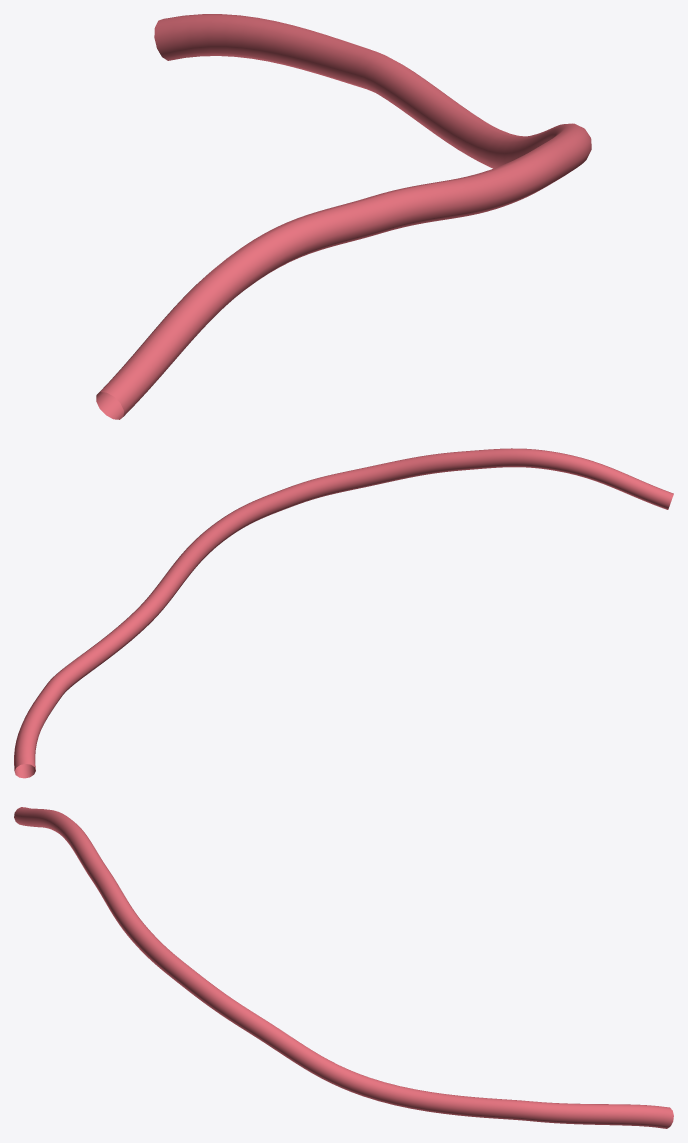
The picture shows the model from 3 angles, top to bottom: view 1: azimuth 30°, elevation 25°; view 2: azimuth 150°, elevation 25°; view 3: azimuth 270°, elevation 25°; orthographic projection. The views are drawn at different scales.
Visible parts, largest first — view 1: ZA_47f7968ee940fb96; view 2: ZA_47f7968ee940fb96; view 3: ZA_47f7968ee940fb96.
Part boxes in pixels (x1,y1,x2,y2): ZA_47f7968ee940fb96: [96, 14, 591, 419]; ZA_47f7968ee940fb96: [14, 448, 673, 778]; ZA_47f7968ee940fb96: [14, 807, 673, 1128].
Size of the model in its own units: 0.0455 by 0.02 by 0.0647.
